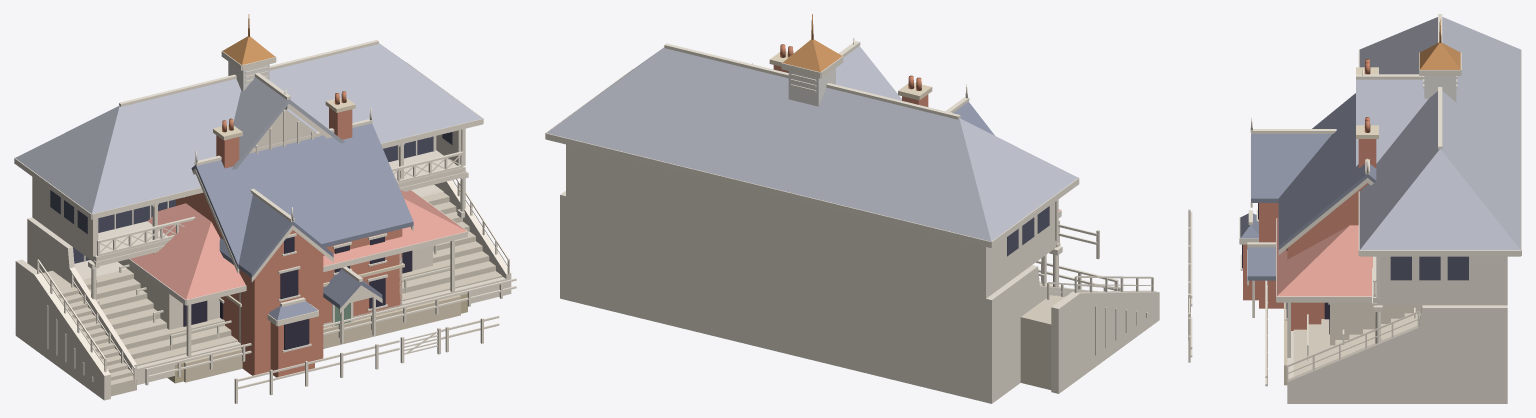
Rendered from gen-tight-r-small_stands.glb.
3 renders of one model, left to right at view 1: azimuth 30°, elevation 25°; view 2: azimuth 150°, elevation 25°; view 3: azimuth 270°, elevation 25°, orthographic. The views are drawn at different scales.
Parts seen in each view (by area): view 1: gen_pavilion_small, victorian_house, ring_pavilion_small, park_terrace; view 2: gen_pavilion_small, victorian_house; view 3: gen_pavilion_small, victorian_house, ring_pavilion_small.
Boxes of the visible parts, bbox=[...] form: gen_pavilion_small: bbox=[14, 14, 516, 400]; victorian_house: bbox=[176, 91, 499, 403]; ring_pavilion_small: bbox=[118, 190, 467, 382]; park_terrace: bbox=[119, 244, 467, 383]; gen_pavilion_small: bbox=[545, 14, 1159, 403]; victorian_house: bbox=[752, 44, 1099, 259]; gen_pavilion_small: bbox=[1265, 14, 1521, 403]; victorian_house: bbox=[1188, 59, 1378, 362]; ring_pavilion_small: bbox=[1276, 217, 1421, 385].
Bounding box in the file's own units: 28.8 × 18.3 × 18.75.
